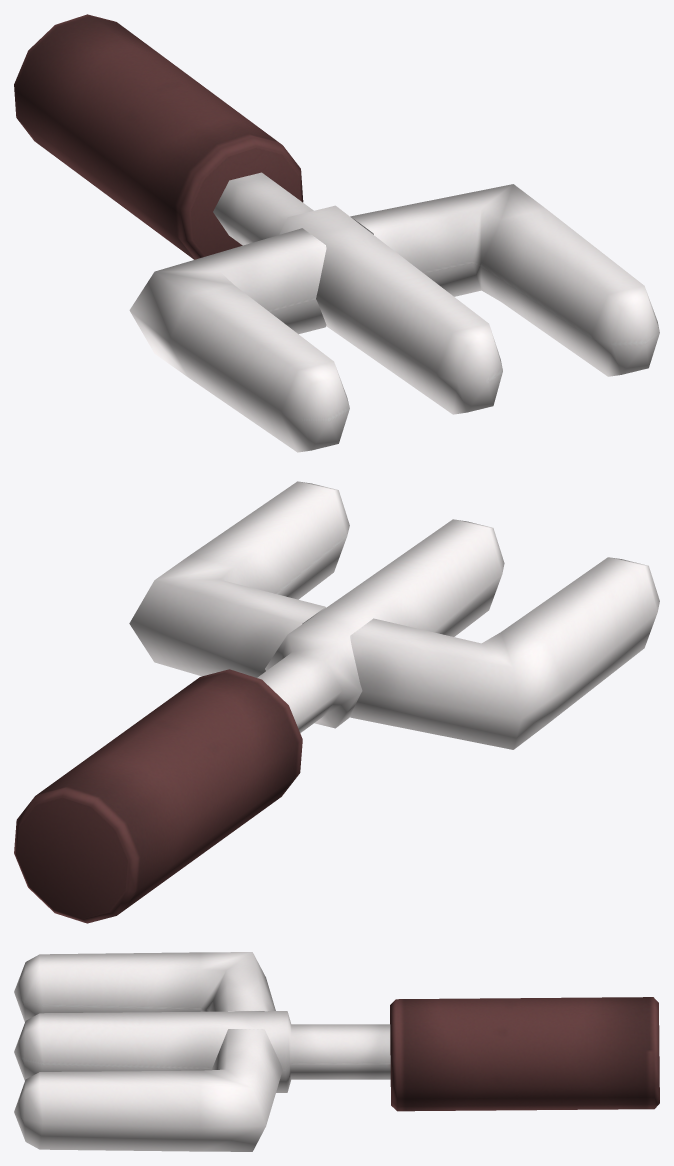
Rendered from SpadA.fbx.
3 views of the same model, one above another, from view 1: azimuth 30°, elevation 25°; view 2: azimuth 150°, elevation 25°; view 3: azimuth 270°, elevation 25° (orthographic). The views are drawn at different scales.
Visible parts, largest first — view 1: SpadA; view 2: SpadA; view 3: SpadA.
Part boxes in pixels (x1,y1,x2,y2): SpadA: [14, 14, 659, 452]; SpadA: [14, 481, 659, 923]; SpadA: [14, 952, 659, 1151].
Bounding box in the file's own units: 19.38 × 6.12 × 35.08.
